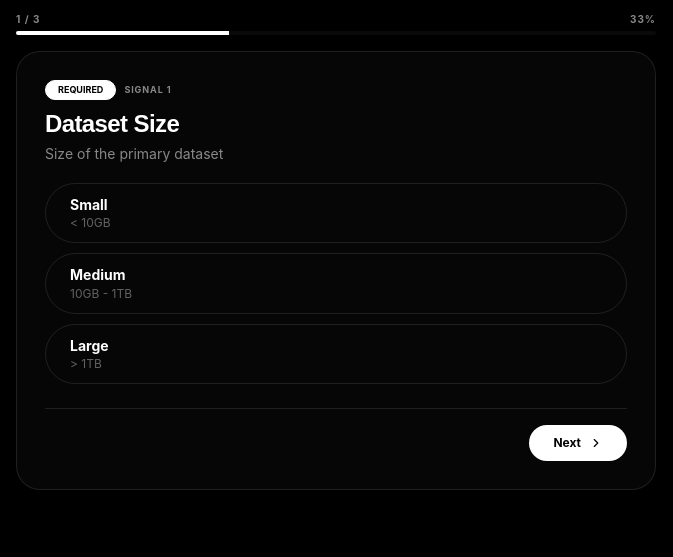
QuestionnaireForm — Required Field Validation › clears error after user selects an option
Expected: the heading "Dataset Size" is shown, [45,110,179,136]
Click the button "Next": (578, 443) [529,425,627,461]
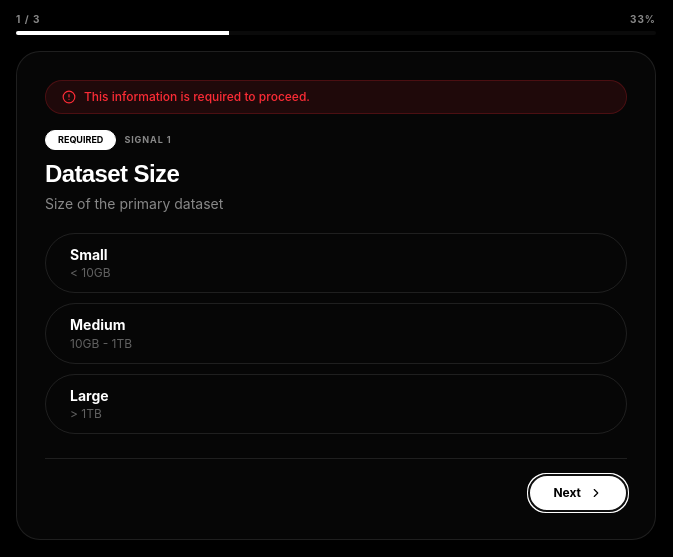
Now the text "This information is required to proceed." is shown, box [84,89,310,105]
Click the text "Large": (89, 395) [70,387,109,404]
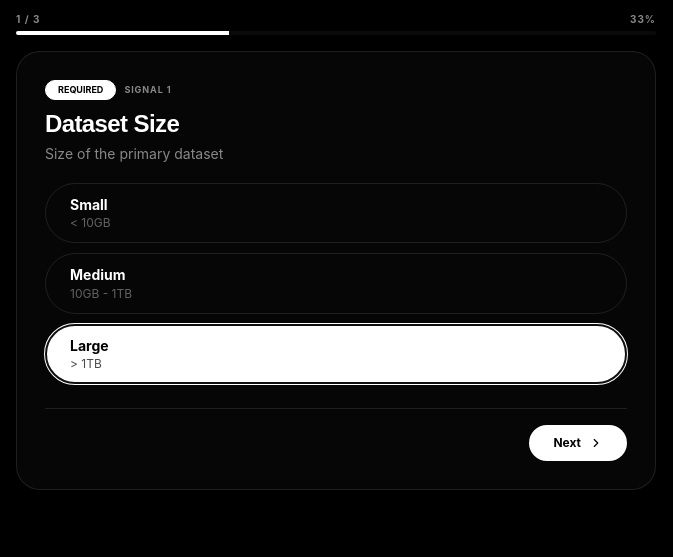
Now the text "This information is required to proceed." is gone
